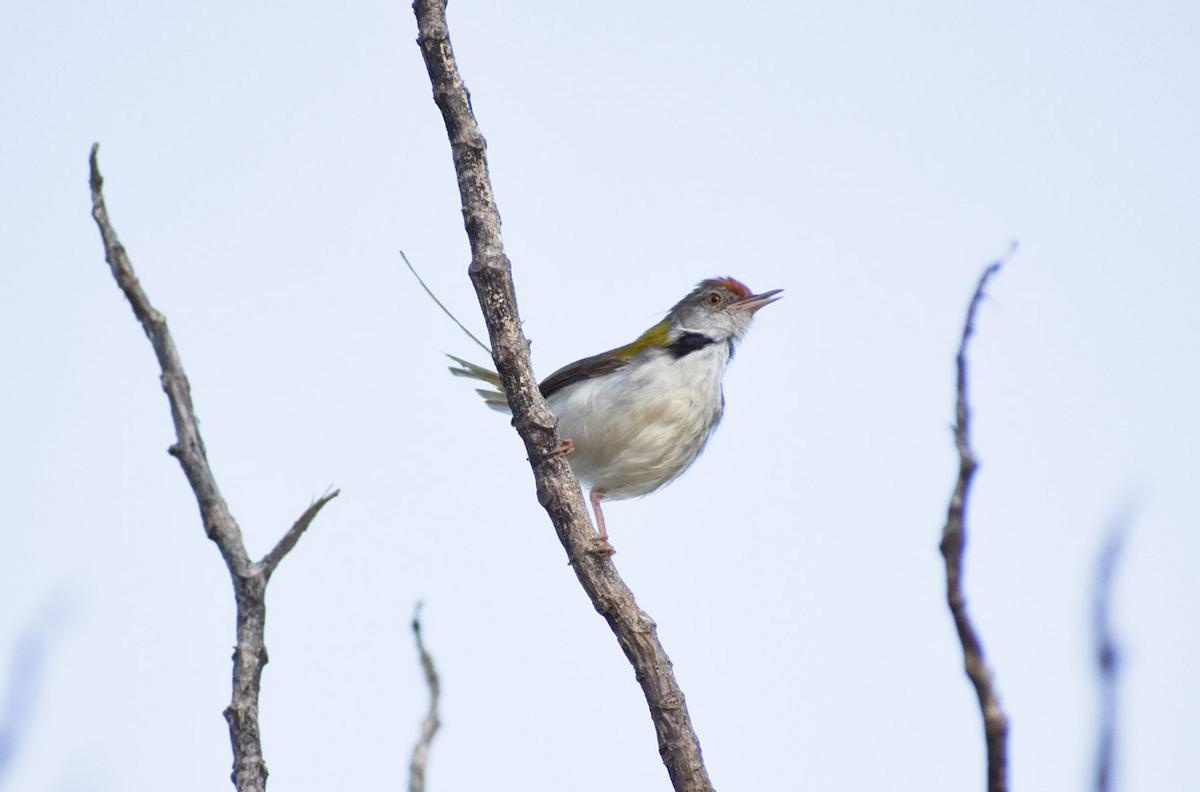tailorbird: (430, 252, 833, 562)
